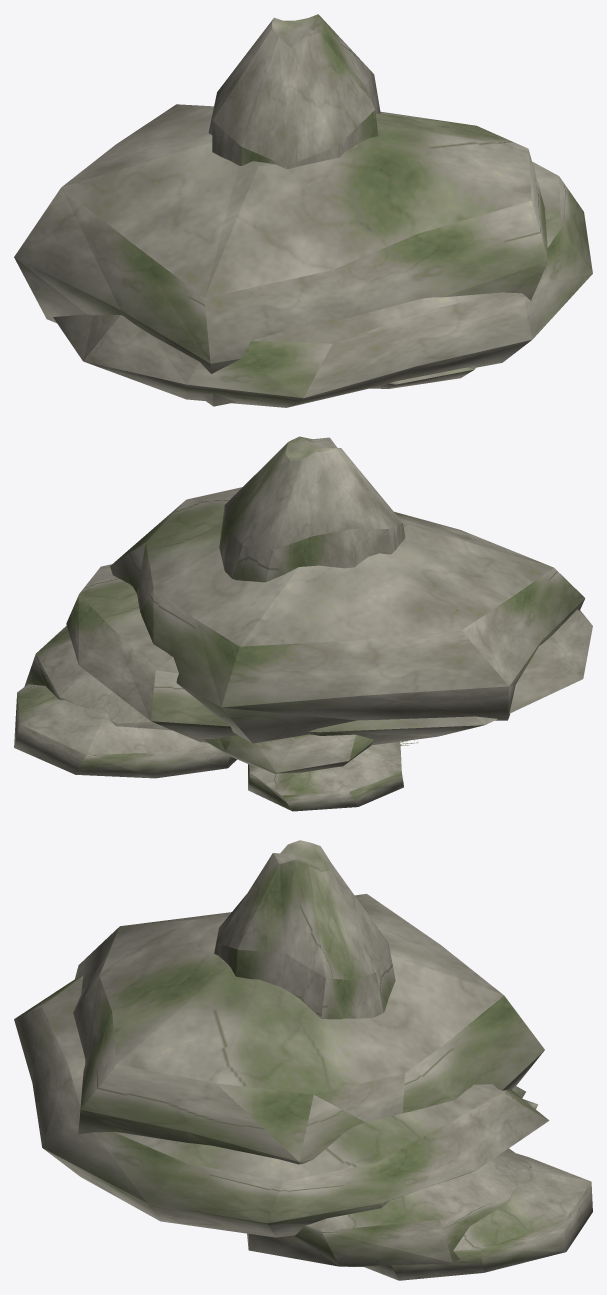
The model's file is vado_rocas.glb.
The picture shows the model from 3 angles, top to bottom: view 1: azimuth 30°, elevation 25°; view 2: azimuth 150°, elevation 25°; view 3: azimuth 270°, elevation 25°; orthographic projection. The views are drawn at different scales.
Parts seen in each view (by area): view 1: roca_05__rock_largeF, roca_04__rock_largeC, roca_06__rock_tallC, roca_03__rock_largeA; view 2: roca_05__rock_largeF, roca_04__rock_largeC, roca_06__rock_tallC, roca_03__rock_largeA; view 3: roca_05__rock_largeF, roca_04__rock_largeC, roca_06__rock_tallC.
Part boxes in pixels (left/top/right/bottom): roca_05__rock_largeF: left=14, top=104, right=548, bottom=406; roca_04__rock_largeC: left=53, top=161, right=592, bottom=407; roca_06__rock_tallC: left=208, top=14, right=380, bottom=169; roca_03__rock_largeA: left=370, top=366, right=476, bottom=388; roca_05__rock_largeF: left=24, top=487, right=585, bottom=743; roca_04__rock_largeC: left=14, top=564, right=592, bottom=778; roca_06__rock_tallC: left=219, top=436, right=405, bottom=582; roca_03__rock_largeA: left=204, top=734, right=403, bottom=811; roca_05__rock_largeF: left=73, top=893, right=544, bottom=1266; roca_04__rock_largeC: left=14, top=976, right=592, bottom=1280; roca_06__rock_tallC: left=214, top=840, right=395, bottom=1019.
Bounding box in the file's own units: 5.3 × 3.2 × 5.06.
1 material, 1 textured.
